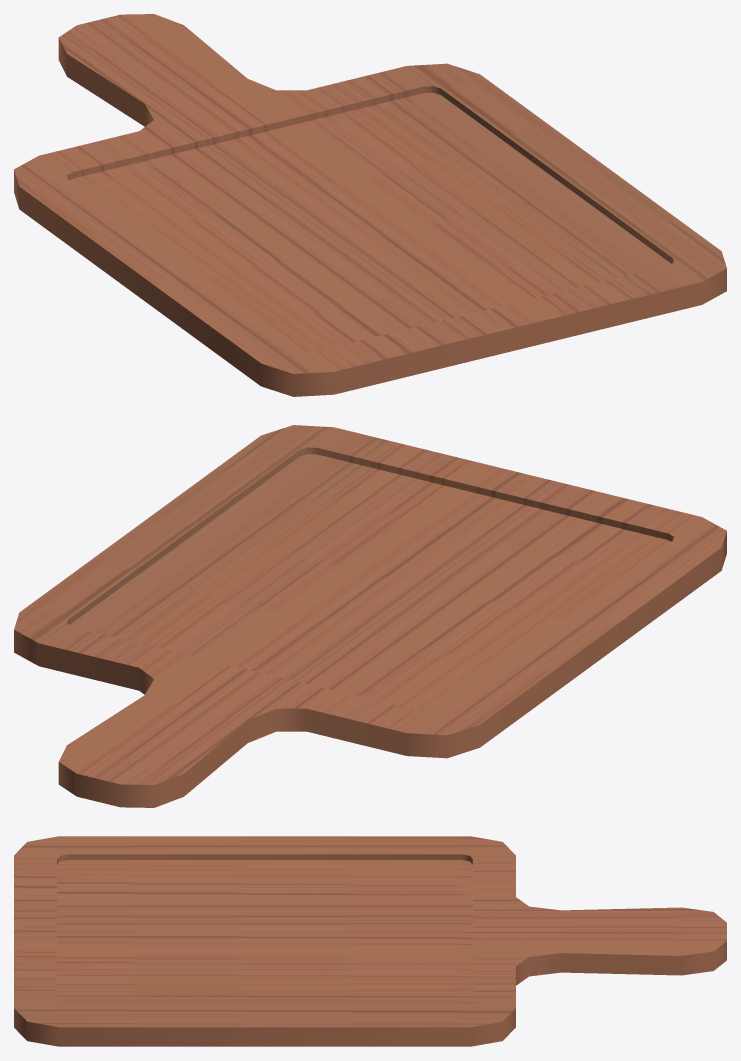
Rendered from Tabla.fbx.
3 renders of one model, top to bottom at view 1: azimuth 30°, elevation 25°; view 2: azimuth 150°, elevation 25°; view 3: azimuth 270°, elevation 25°, orthographic. The views are drawn at different scales.
Visible parts, largest first — view 1: Tabla; view 2: Tabla; view 3: Tabla.
Boxes of the visible parts, x1=… form: Tabla: x1=14, y1=14, x2=726, y2=396; Tabla: x1=14, y1=425, x2=726, y2=807; Tabla: x1=14, y1=836, x2=726, y2=1046.
Size of the model in its own units: 303 by 14.42 by 478.
